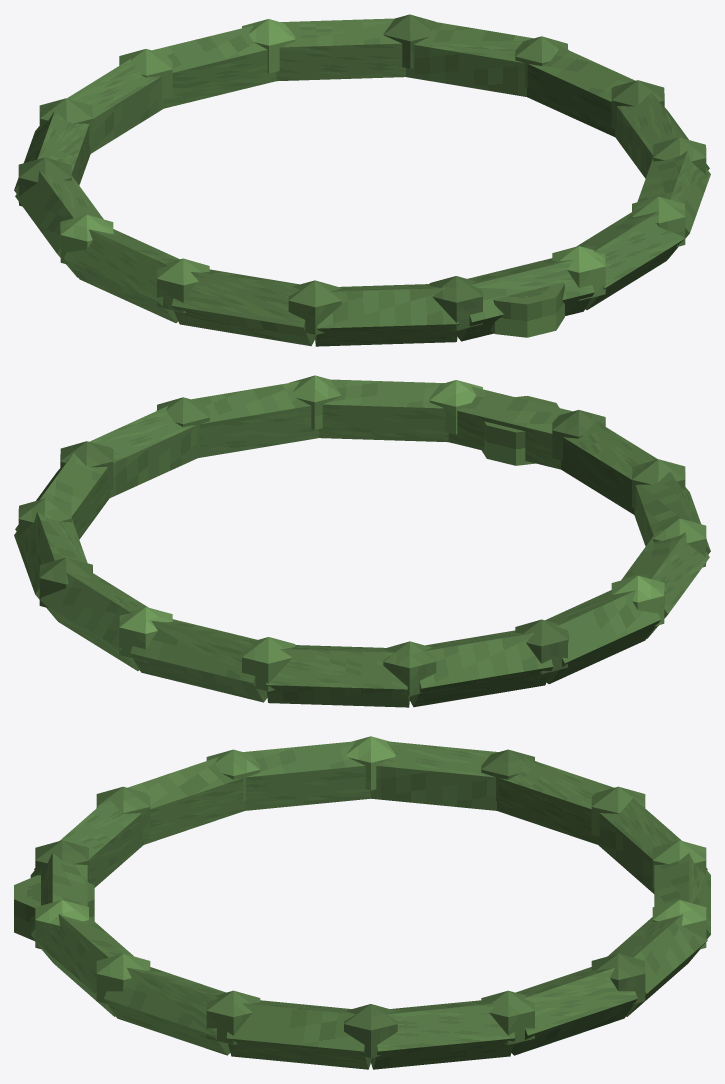
The model's file is woven_anklet.glb.
The picture shows the model from 3 angles, top to bottom: view 1: azimuth 30°, elevation 25°; view 2: azimuth 150°, elevation 25°; view 3: azimuth 270°, elevation 25°; orthographic projection.
Visible parts, largest first — view 1: block_bead (×14), block_bracelet band4, block_bracelet band5, block_bracelet band11, block_bracelet band12, block_bracelet band10, block_bracelet band6, block_bracelet band13, block_bracelet band2, block_bracelet band9, block_bracelet band3, block_bracelet band7 (+4 smaller); view 2: block_bead (×14), block_bracelet band9, block_bracelet band8, block_bracelet band2, block_bracelet band10, block_bracelet band1, block_bracelet band7, block_bracelet band0, block_bracelet band3, block_bracelet band11, block_bracelet band4, block_bracelet band6 (+4 smaller); view 3: block_bead (×14), block_bracelet band13, block_bracelet band0, block_bracelet band7, block_bracelet band6, block_bracelet band1, block_bracelet band12, block_bracelet band5, block_bracelet band8, block_bracelet band9, block_bracelet band2, block_bracelet band11 (+4 smaller).
Boxes of the visible parts, bbox=[...] form: block_bead (×14): bbox=[18, 14, 706, 335]; block_bracelet band4: bbox=[315, 284, 458, 346]; block_bracelet band5: bbox=[171, 269, 314, 346]; block_bracelet band11: bbox=[276, 18, 405, 81]; block_bracelet band12: bbox=[406, 20, 533, 96]; block_bracelet band10: bbox=[152, 25, 276, 108]; block_bracelet band6: bbox=[64, 229, 179, 322]; block_bracelet band13: bbox=[527, 45, 634, 136]; block_bracelet band2: bbox=[576, 211, 684, 309]; block_bracelet band9: bbox=[67, 58, 163, 153]; block_bracelet band3: bbox=[457, 258, 594, 341]; block_bracelet band7: bbox=[15, 171, 103, 277]; block_bead (×14): bbox=[18, 375, 706, 696]; block_bracelet band9: bbox=[266, 645, 409, 707]; block_bracelet band8: bbox=[410, 630, 553, 707]; block_bracelet band2: bbox=[319, 379, 448, 442]; block_bracelet band10: bbox=[130, 619, 267, 702]; block_bracelet band1: bbox=[191, 381, 318, 457]; block_bracelet band7: bbox=[545, 590, 660, 683]; block_bracelet band0: bbox=[90, 406, 197, 497]; block_bracelet band3: bbox=[448, 386, 572, 469]; block_bracelet band11: bbox=[40, 572, 148, 670]; block_bracelet band4: bbox=[561, 419, 657, 514]; block_bracelet band6: bbox=[621, 532, 709, 638]; block_bead (×14): bbox=[35, 736, 706, 1058]; block_bracelet band13: bbox=[371, 1000, 515, 1069]; block_bracelet band0: bbox=[226, 1000, 370, 1069]; block_bracelet band7: bbox=[371, 741, 498, 810]; block_bracelet band6: bbox=[243, 741, 370, 810]; block_bracelet band1: bbox=[104, 967, 230, 1055]; block_bracelet band12: bbox=[511, 967, 637, 1055]; block_bracelet band5: bbox=[128, 757, 244, 844]; block_bracelet band8: bbox=[497, 757, 613, 844]; block_bracelet band9: bbox=[598, 798, 707, 893]; block_bracelet band2: bbox=[34, 914, 133, 1016]; block_bracelet band11: bbox=[607, 914, 707, 1016].
Bounding box in the file's own units: 0.0429 × 0.00422 × 0.0431.
Materials: 1 (1 with a texture image).
